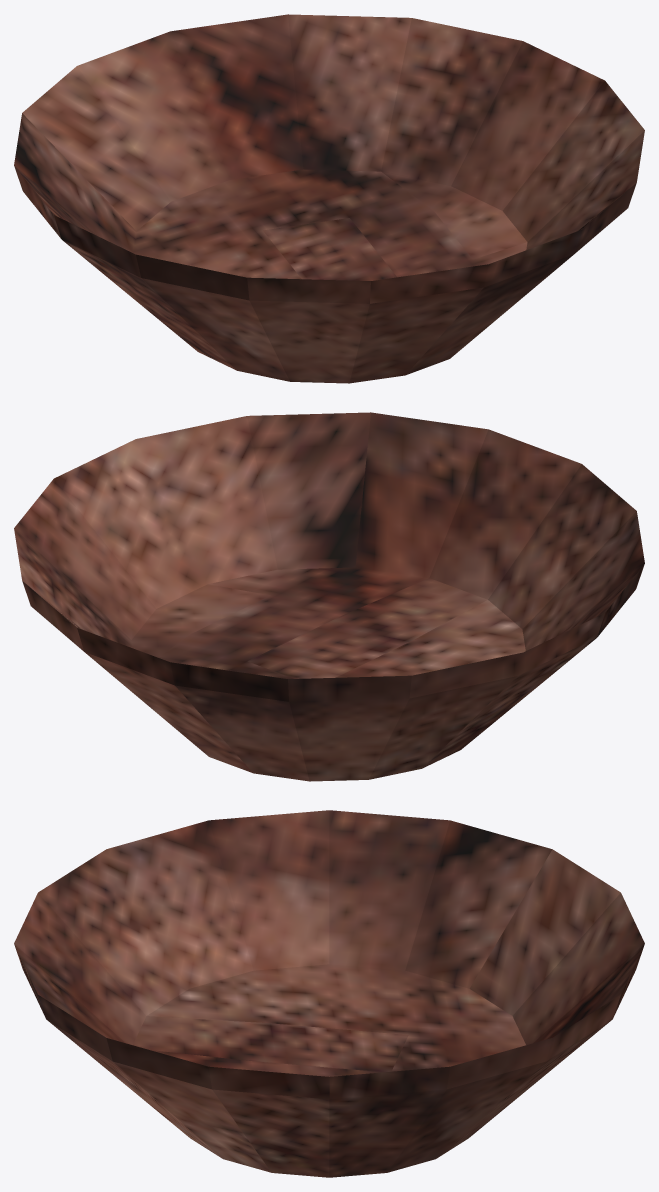
The model's file is bolw.fbx.
3 views of the same model, one above another, from view 1: azimuth 30°, elevation 25°; view 2: azimuth 150°, elevation 25°; view 3: azimuth 270°, elevation 25° (orthographic).
Parts seen in each view (by area): view 1: bolw; view 2: bolw; view 3: bolw.
Boxes of the visible parts, x1,y1,x2,y2 form: bolw: (14,14,644,383); bolw: (14,412,644,781); bolw: (14,810,644,1177).
Bounding box in the file's own units: 36.22 × 10.81 × 36.22.
